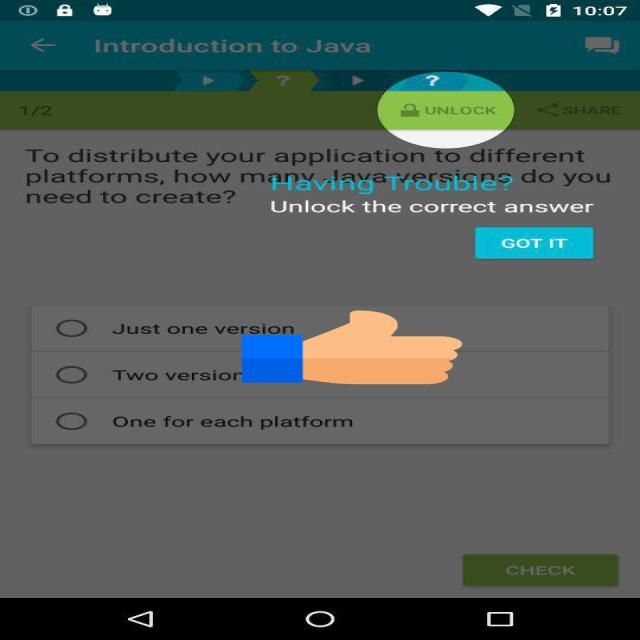privacy zuckering: (242, 309, 462, 386)
